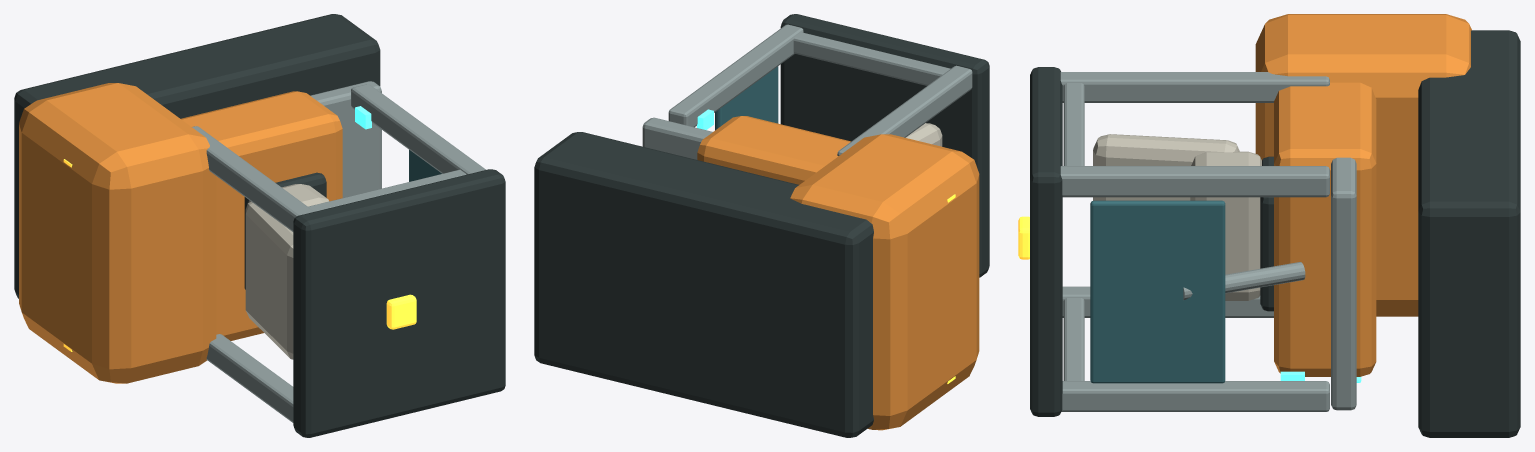
Rendered from forklift_base.glb.
3 renders of one model, left to right at view 1: azimuth 30°, elevation 25°; view 2: azimuth 150°, elevation 25°; view 3: azimuth 270°, elevation 25°, orthographic. The views are drawn at different scales.
Parts seen in each view (by area): view 1: forklift_counterweight, forklift_guard_roof, forklift_chassis, forklift_hood, forklift_seat_back, forklift_guard_front_left, forklift_floor, forklift_guard_rear_left, forklift_guard_rear_right, forklift_guard_rail_left, forklift_beacon, forklift_seat_base (+2 smaller); view 2: forklift_chassis, forklift_counterweight, forklift_guard_roof, forklift_hood, forklift_guard_front_left, forklift_guard_rail_left, forklift_guard_rear_left, forklift_windshield, forklift_floor, forklift_seat_back; view 3: forklift_chassis, forklift_windshield, forklift_counterweight, forklift_hood, forklift_guard_roof, forklift_guard_front_left, forklift_guard_front_right, forklift_guard_rear_left, forklift_floor, forklift_seat, forklift_seat_back, forklift_guard_rail_left (+5 smaller).
Part boxes in pixels (bbox=[...]): forklift_counterweight: bbox=[19, 83, 216, 383]; forklift_guard_roof: bbox=[293, 169, 505, 437]; forklift_chassis: bbox=[14, 14, 380, 298]; forklift_hood: bbox=[181, 91, 342, 340]; forklift_seat_back: bbox=[245, 201, 293, 359]; forklift_guard_front_left: bbox=[351, 84, 485, 174]; forklift_floor: bbox=[310, 81, 381, 197]; forklift_guard_rear_left: bbox=[192, 126, 314, 231]; forklift_guard_rear_right: bbox=[206, 334, 293, 422]; forklift_guard_rail_left: bbox=[308, 169, 466, 211]; forklift_beacon: bbox=[386, 294, 416, 329]; forklift_seat_base: bbox=[244, 172, 326, 289]; forklift_chassis: bbox=[534, 132, 873, 437]; forklift_counterweight: bbox=[790, 134, 979, 430]; forklift_guard_roof: bbox=[780, 14, 989, 277]; forklift_hood: bbox=[697, 116, 850, 184]; forklift_guard_front_left: bbox=[668, 24, 803, 127]; forklift_guard_rail_left: bbox=[793, 32, 950, 85]; forklift_guard_rear_left: bbox=[837, 65, 972, 155]; forklift_windshield: bbox=[715, 66, 778, 130]; forklift_floor: bbox=[642, 117, 712, 159]; forklift_seat_back: bbox=[905, 123, 942, 146]; forklift_chassis: bbox=[1418, 30, 1520, 437]; forklift_windshield: bbox=[1090, 200, 1225, 383]; forklift_counterweight: bbox=[1255, 14, 1471, 316]; forklift_hood: bbox=[1274, 82, 1376, 376]; forklift_guard_roof: bbox=[1030, 67, 1062, 416]; forklift_guard_front_left: bbox=[1060, 166, 1329, 197]; forklift_guard_front_right: bbox=[1061, 381, 1329, 411]; forklift_guard_rear_left: bbox=[1060, 72, 1329, 102]; forklift_floor: bbox=[1331, 157, 1356, 410]; forklift_seat: bbox=[1190, 151, 1261, 300]; forklift_seat_back: bbox=[1093, 134, 1239, 200]; forklift_guard_rail_left: bbox=[1063, 83, 1084, 165].
Bounding box in the file's own units: 0.98 × 0.632 × 1.08.
